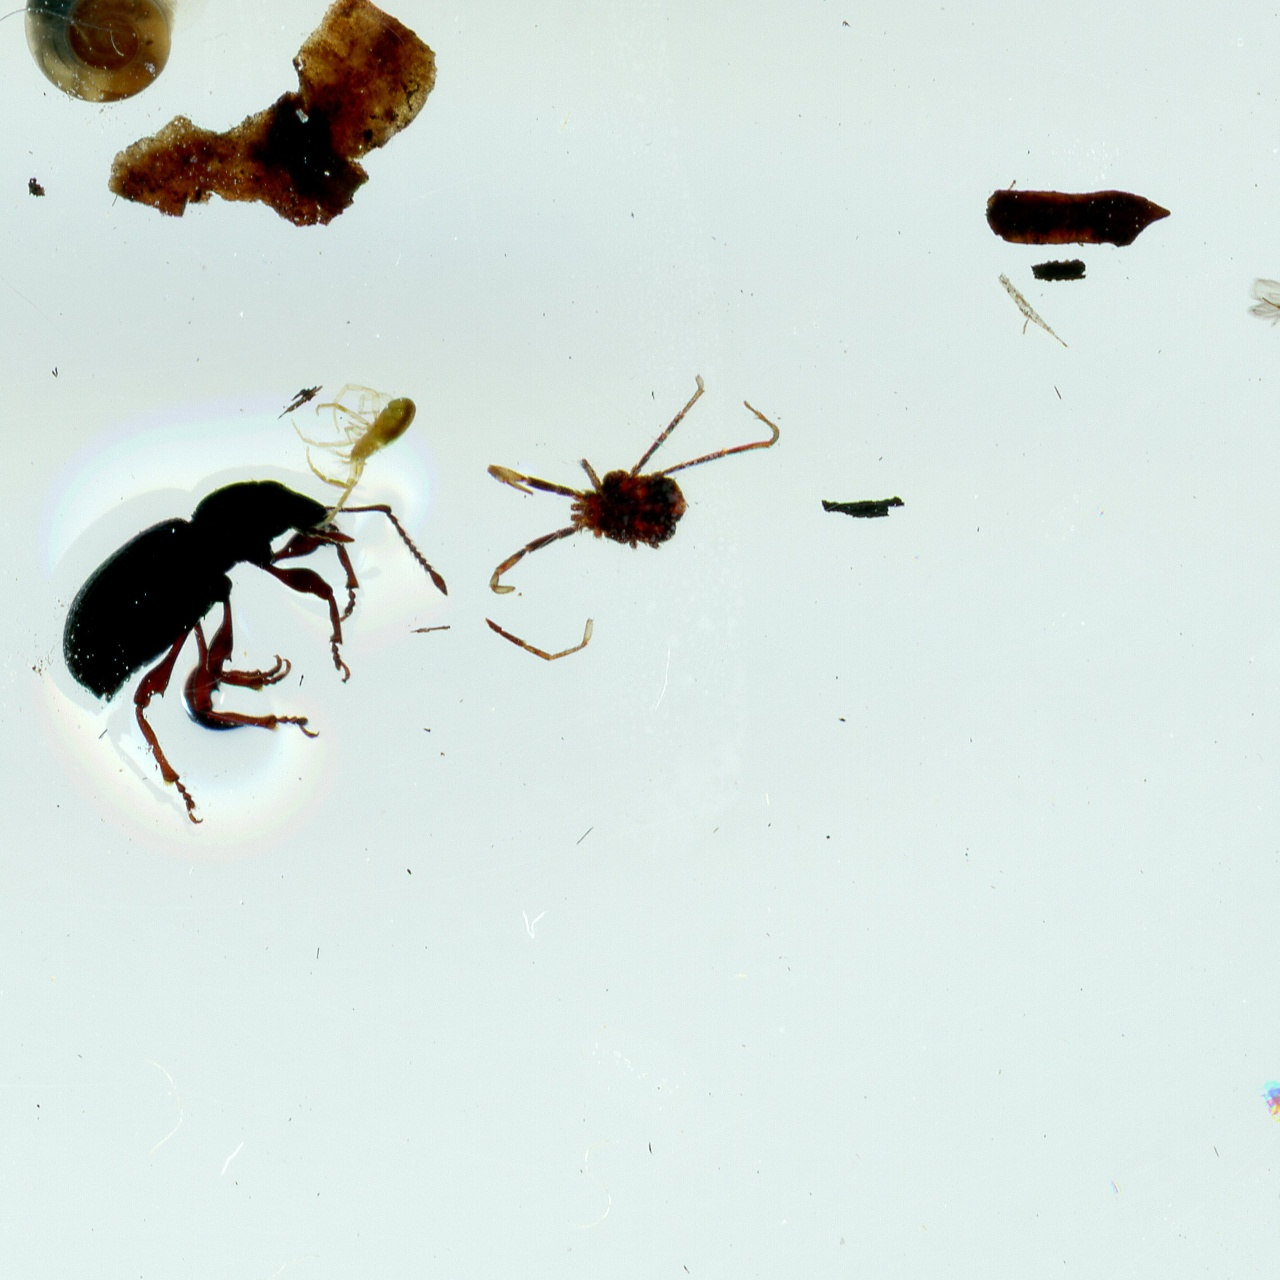arthropod: (13, 394, 495, 846), (482, 367, 787, 600), (245, 347, 427, 545), (22, 0, 212, 104), (1241, 274, 1280, 384)
